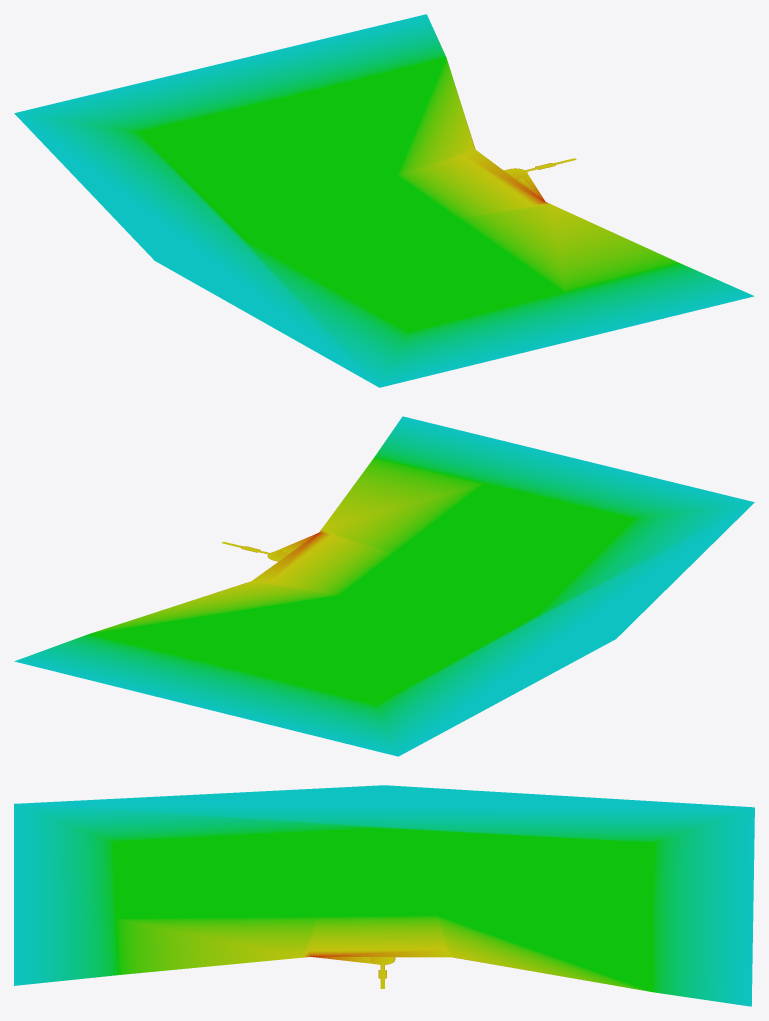
File: Water.fbx
The picture shows the model from 3 angles, top to bottom: view 1: azimuth 30°, elevation 25°; view 2: azimuth 150°, elevation 25°; view 3: azimuth 270°, elevation 25°; orthographic projection. The views are drawn at different scales.
Parts seen in each view (by area): view 1: Sea Far, Sea; view 2: Sea Far, Sea; view 3: Sea Far, Sea.
Part boxes in pixels (x1=…): Sea Far: x1=14, y1=14, x2=754, y2=387; Sea: x1=452, y1=76, x2=551, y2=205; Sea Far: x1=14, y1=416, x2=754, y2=756; Sea: x1=150, y1=529, x2=331, y2=614; Sea Far: x1=14, y1=785, x2=754, y2=1006; Sea: x1=301, y1=949, x2=608, y2=984.
Size of the model in its own units: 142134 by 25.32 by 200864.
